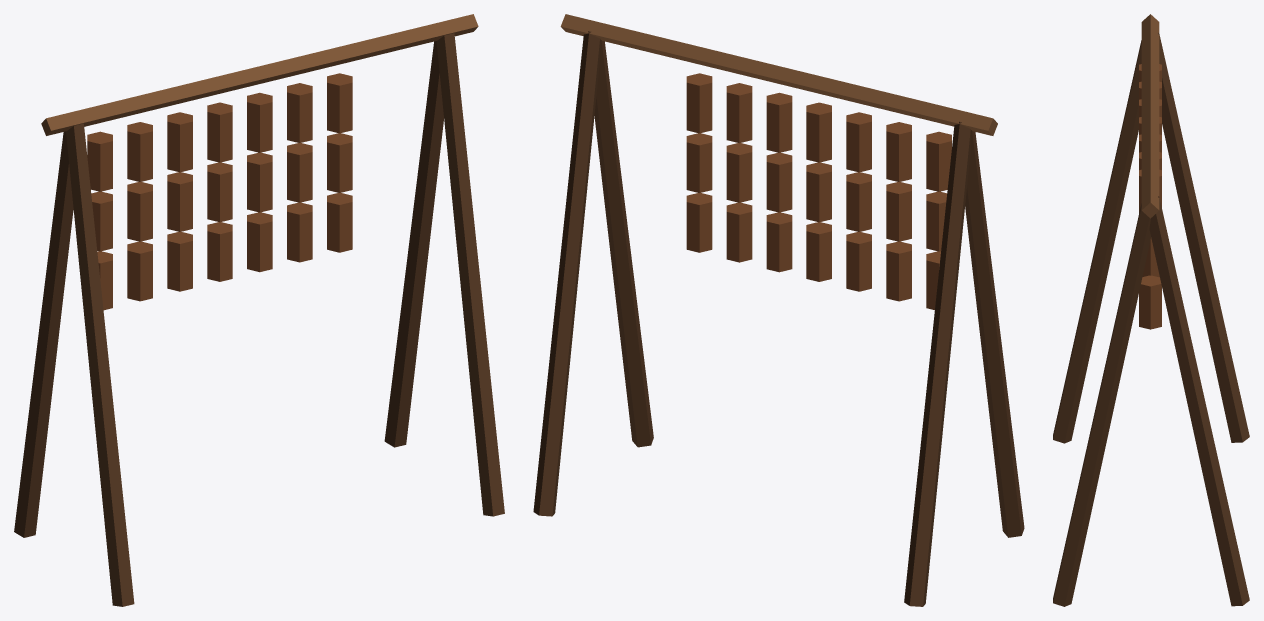
File: pile_smoked_2.glb
3 renders of one model, left to right at view 1: azimuth 30°, elevation 25°; view 2: azimuth 150°, elevation 25°; view 3: azimuth 270°, elevation 25°, orthographic. The views are drawn at different scales.
Parts seen in each view (by area): view 1: pile_smoked_2; view 2: pile_smoked_2; view 3: pile_smoked_2.
Part boxes in pixels (left/top/right/bottom): pile_smoked_2: left=14, top=14, right=504, bottom=606; pile_smoked_2: left=533, top=14, right=1024, bottom=606; pile_smoked_2: left=1053, top=14, right=1249, bottom=606.
Bounding box in the file's own units: 1.5 × 1.54 × 0.6621.
